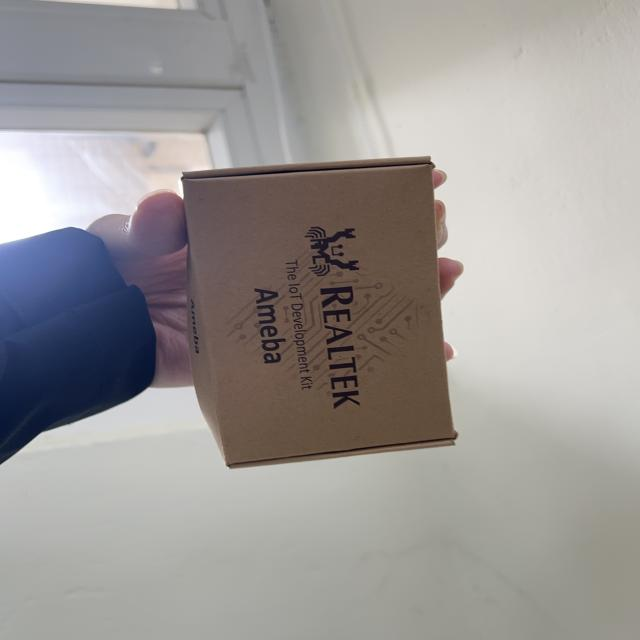box: (163, 146, 487, 476)
